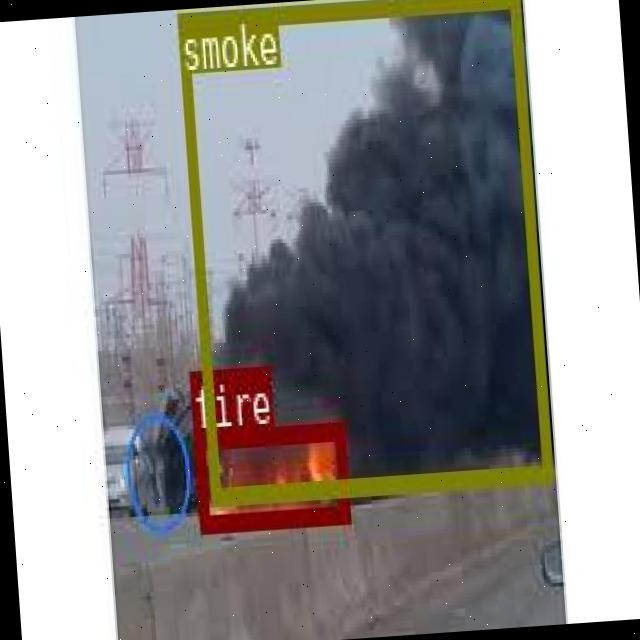fire: (191, 419, 348, 528)
smoke: (176, 0, 549, 502)
